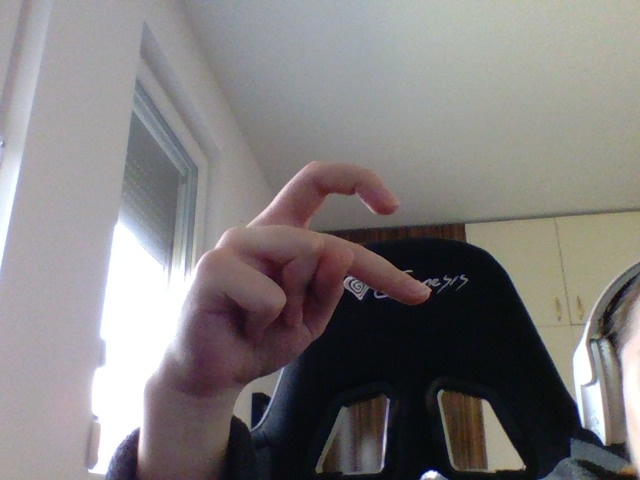HalfHeart: (168, 160, 433, 400)
